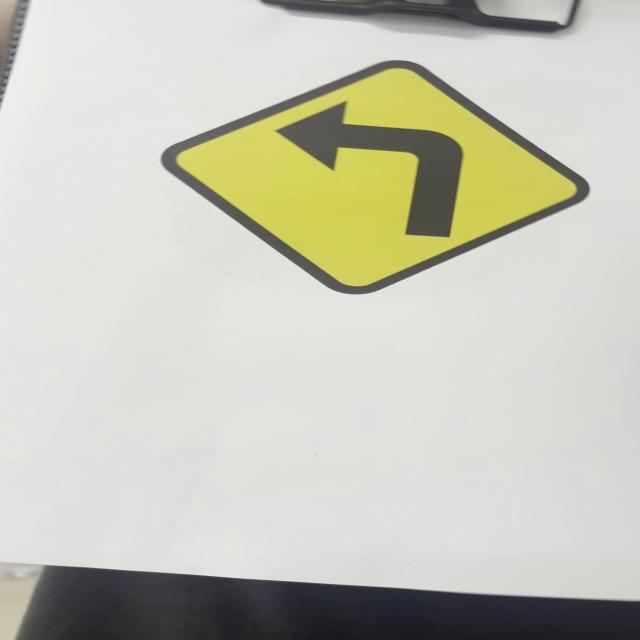left: (161, 60, 592, 298)
